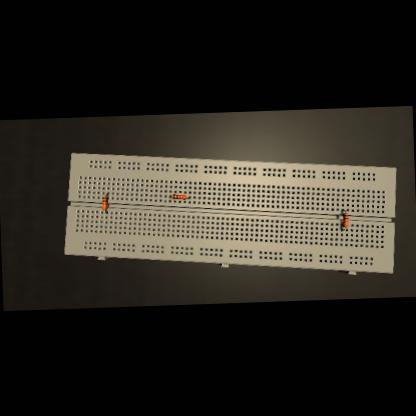breadboard: (61, 141, 400, 284)
resistor: (342, 213, 348, 227), (102, 196, 107, 209), (172, 194, 186, 198)
wire: (342, 209, 346, 212), (342, 228, 346, 230), (105, 194, 108, 196), (104, 210, 107, 212), (187, 197, 190, 198), (170, 196, 172, 197)
